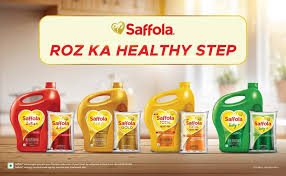saffola: (144, 82, 193, 151), (213, 83, 262, 151), (81, 99, 119, 135)
